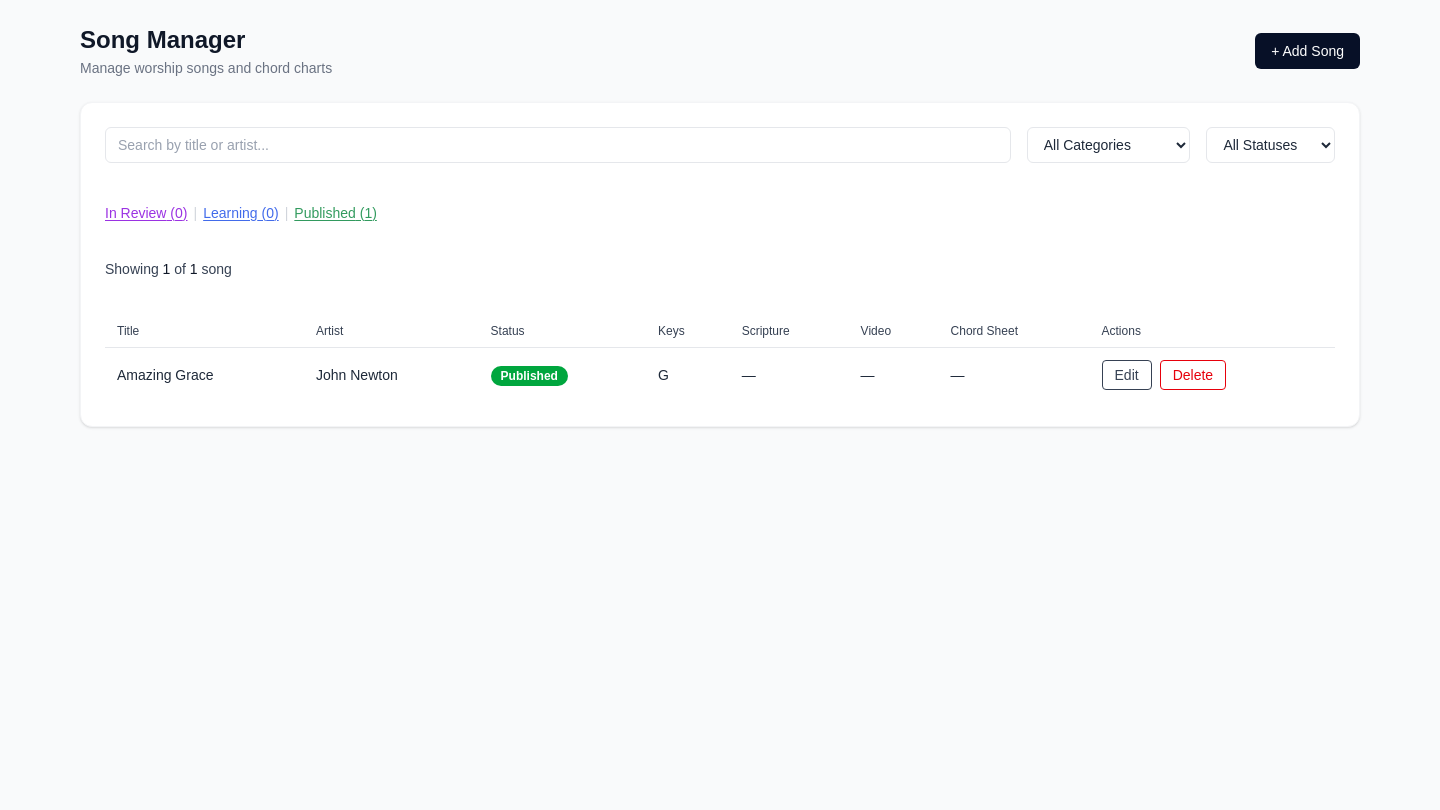
it: AdminSongsPage — edit modal › renders all form fields when Edit is clicked
Expected: the text "Amazing Grace" is shown, x1=105 y1=348 x2=304 y2=402
Click the button "Edit". click: (1127,375)
box: x1=1102 y1=360 x2=1152 y2=390
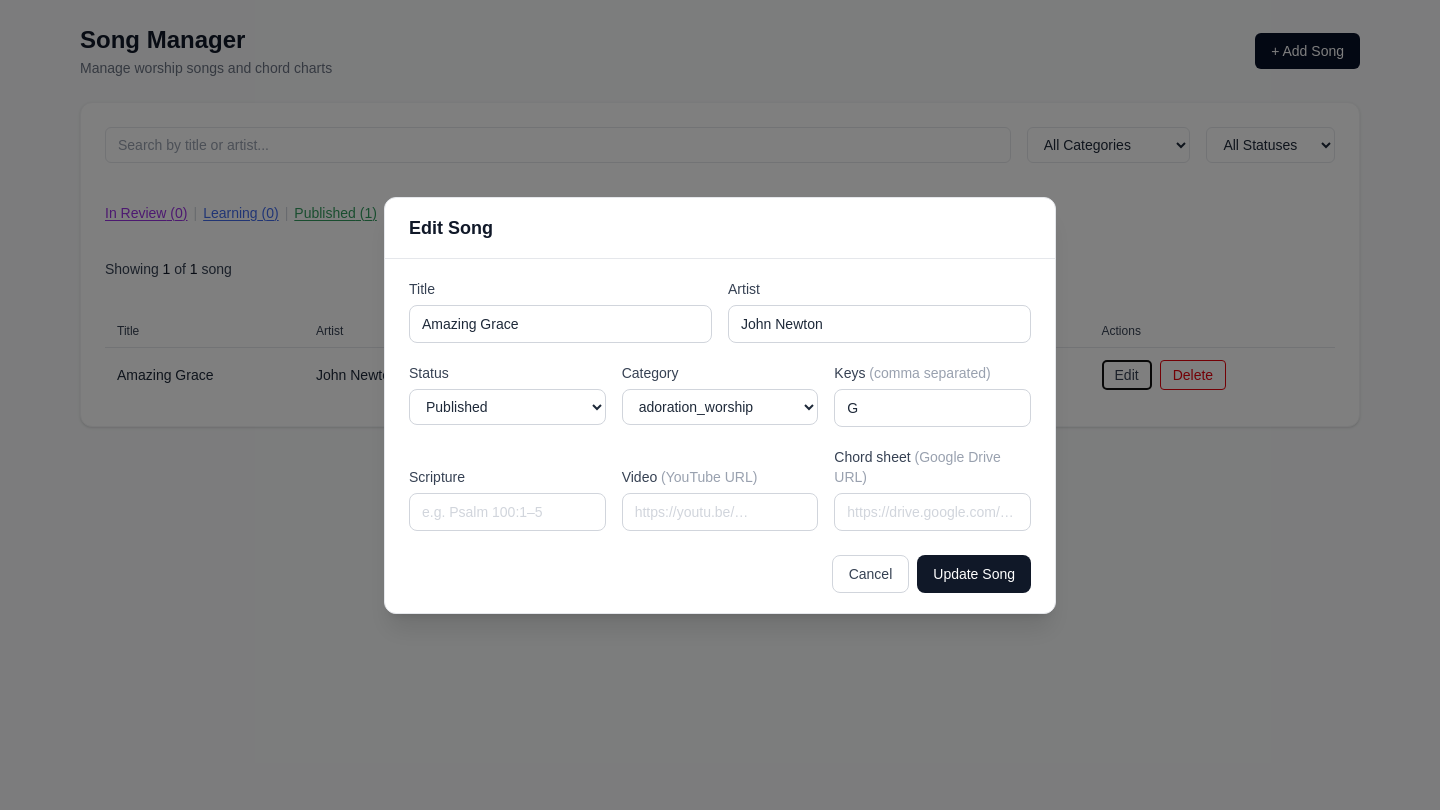
Result: the 1st field with placeholder "Song title" is shown at x1=409 y1=304 x2=712 y2=342
Result: the 2nd field with placeholder "Artist name" is shown at x1=728 y1=304 x2=1031 y2=342
Result: the field with placeholder "e.g. Psalm 100:1–5" is shown at x1=409 y1=492 x2=606 y2=530
